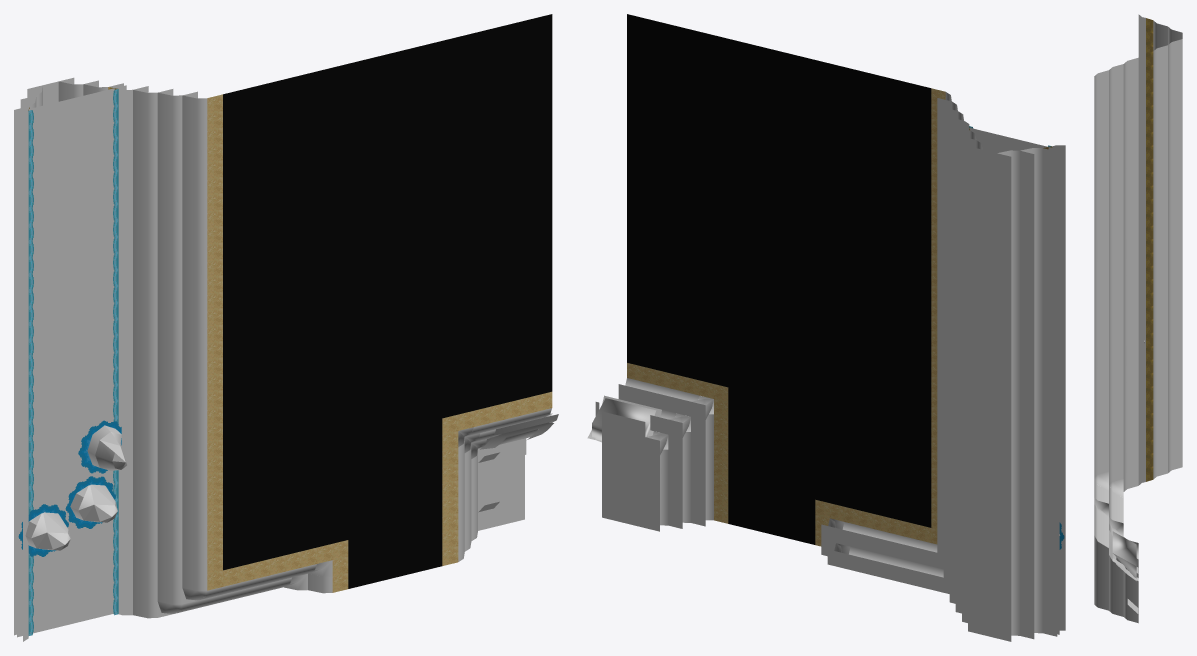
Rendered from Uluru-Cave-2_02_00.obj.
The picture shows the model from 3 angles, left to right: view 1: azimuth 30°, elevation 25°; view 2: azimuth 150°, elevation 25°; view 3: azimuth 270°, elevation 25°; orthographic projection. The views are drawn at different scales.
Parts seen in each view (by area): view 1: map; view 2: map; view 3: map.
Part boxes in pixels (x1,y1,x2,y2): map: (14,14,558,641); map: (587,14,1065,641); map: (1094,14,1182,623).
Size of the model in its own units: 33.11 by 32 by 6.
